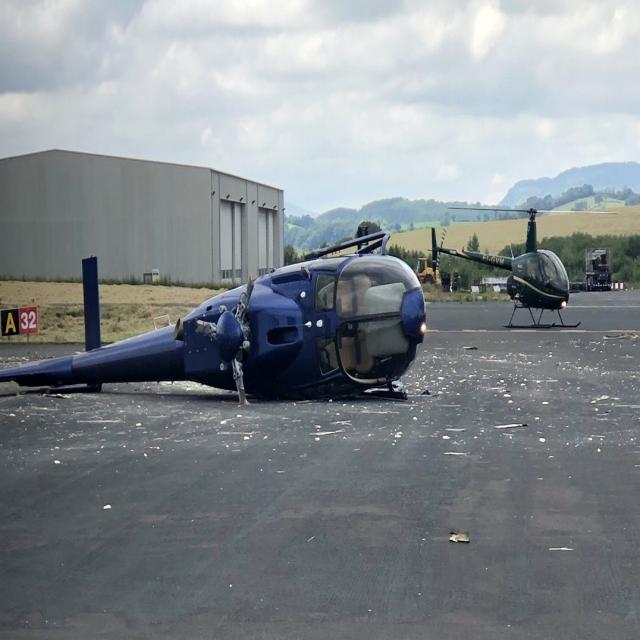helicopter: (1, 218, 432, 417), (419, 198, 591, 337)
